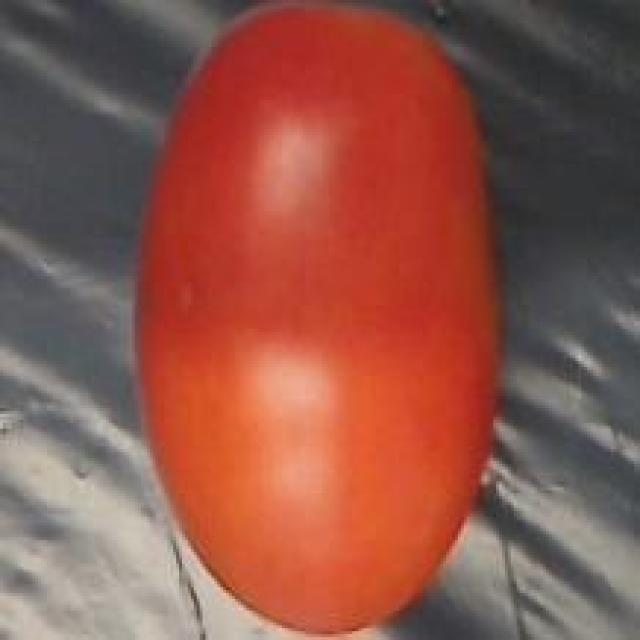ripe tomato: (111, 3, 528, 640)
